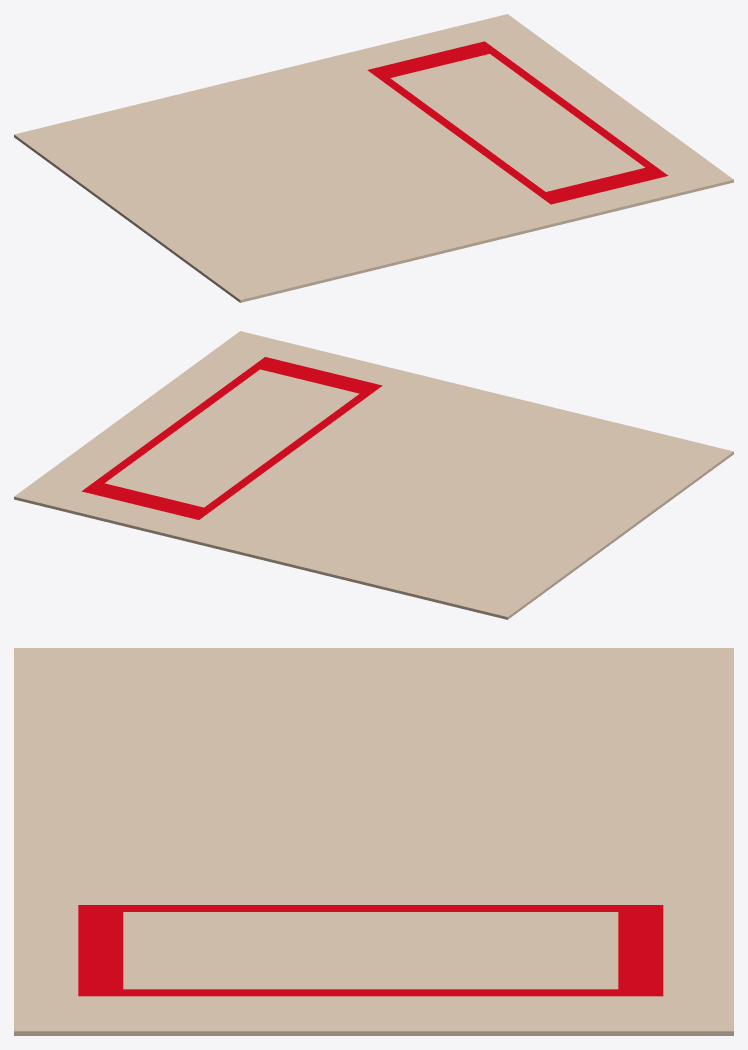
File: contract.fbx
3 renders of one model, top to bottom at view 1: azimuth 30°, elevation 25°; view 2: azimuth 150°, elevation 25°; view 3: azimuth 270°, elevation 25°, orthographic. The views are drawn at different scales.
Visible parts, largest first — view 1: Cube; view 2: Cube; view 3: Cube.
Part boxes in pixels (x1,y1,x2,y2): Cube: (14, 14, 733, 302); Cube: (14, 331, 733, 619); Cube: (14, 648, 733, 1035).
Bounding box in the file's own units: 2972 × 16.25 × 2360.
